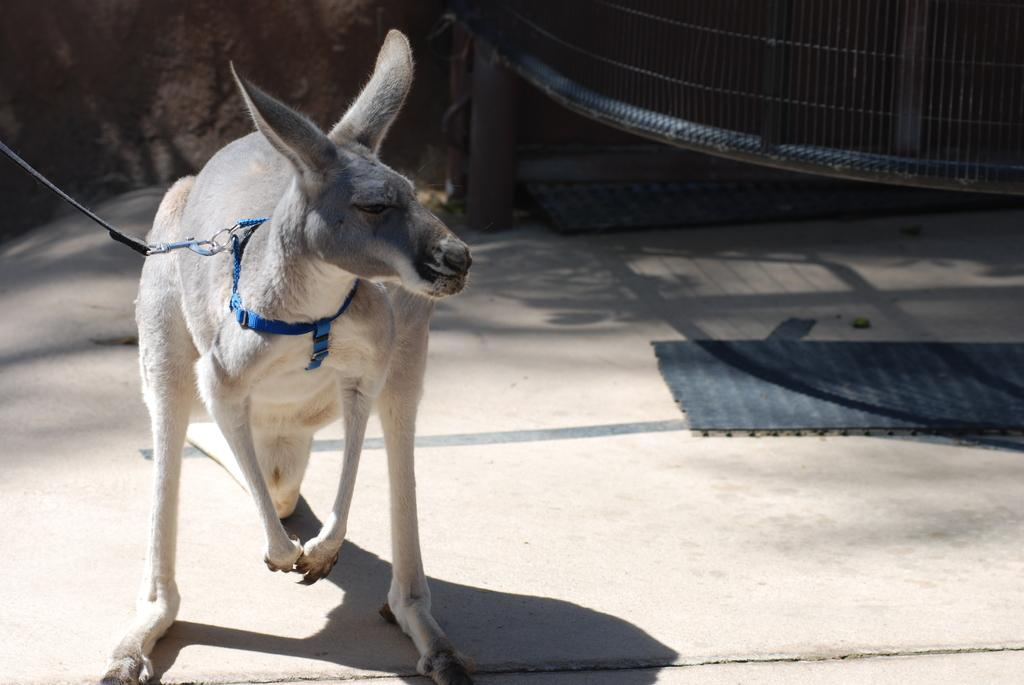kangaroo: (96, 30, 479, 684)
